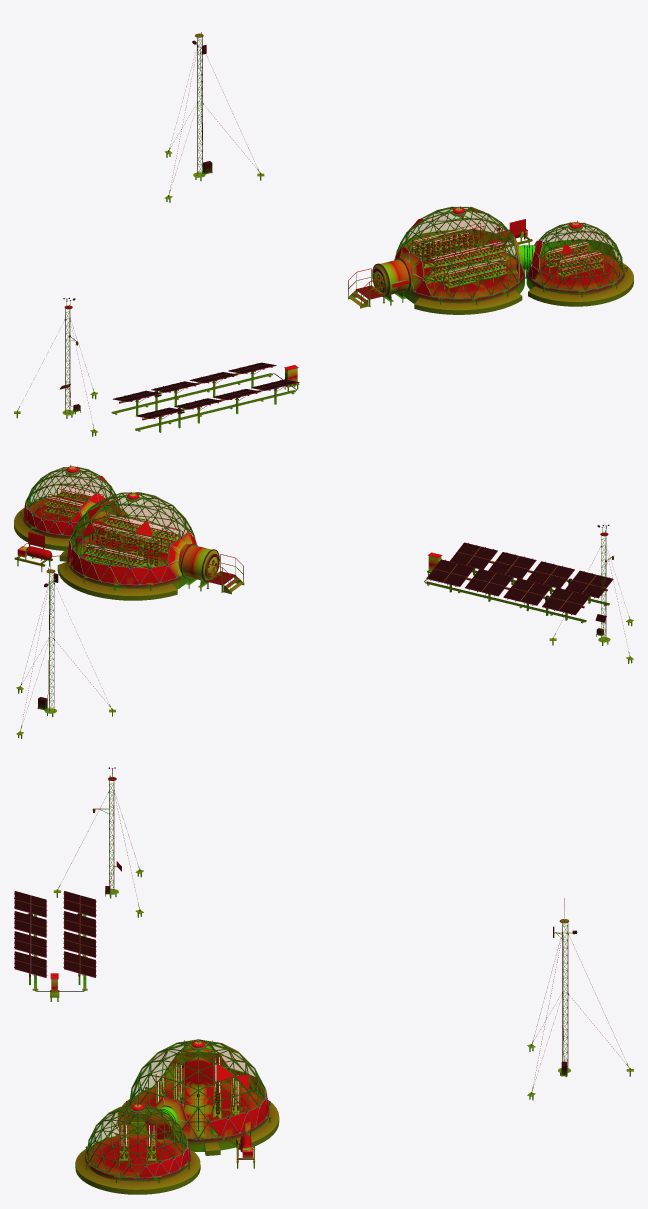
Rendered from home-yard-v1.glb.
The picture shows the model from 3 angles, top to bottom: view 1: azimuth 30°, elevation 25°; view 2: azimuth 150°, elevation 25°; view 3: azimuth 270°, elevation 25°; orthographic projection. The views are drawn at different scales.
Visible parts, largest first — view 1: garden_glass, garden_paint, garden_frame, garden_steel, garden_regolith, garden_black, power_frame, garden_vegetation, power_solar, mast_relay_frame, garden_grow, mast_met_frame; view 2: garden_glass, garden_paint, garden_frame, power_solar, garden_steel, garden_regolith, power_frame, garden_black, garden_vegetation, mast_relay_frame, mast_met_frame, garden_grow (+1 smaller); view 3: garden_glass, garden_paint, garden_frame, power_solar, garden_regolith, garden_black, garden_steel, power_frame, mast_relay_frame, mast_met_frame, garden_vegetation.
Part boxes in pixels (left/top/right/bottom): garden_glass: left=396, top=206, right=623, bottom=298; garden_paint: left=374, top=207, right=621, bottom=298; garden_frame: left=348, top=206, right=627, bottom=308; garden_steel: left=373, top=223, right=603, bottom=295; garden_regolith: left=414, top=263, right=633, bottom=314; garden_black: left=379, top=207, right=623, bottom=298; power_frame: left=111, top=363, right=299, bottom=432; garden_vegetation: left=413, top=229, right=600, bottom=286; power_solar: left=113, top=362, right=298, bottom=418; mast_relay_frame: left=164, top=32, right=264, bottom=202; garden_grow: left=411, top=224, right=601, bottom=281; mast_met_frame: left=14, top=301, right=97, bottom=436; garden_glass: left=26, top=467, right=195, bottom=567; garden_paint: left=17, top=466, right=218, bottom=584; garden_frame: left=14, top=465, right=244, bottom=594; power_solar: left=427, top=542, right=612, bottom=614; garden_steel: left=44, top=485, right=218, bottom=581; garden_regolith: left=14, top=508, right=177, bottom=600; power_frame: left=425, top=542, right=613, bottom=623; garden_black: left=26, top=467, right=217, bottom=582; garden_vegetation: left=47, top=491, right=179, bottom=568; mast_relay_frame: left=16, top=555, right=115, bottom=738; mast_met_frame: left=549, top=528, right=633, bottom=663; garden_grow: left=46, top=486, right=180, bottom=567; garden_glass: left=86, top=1039, right=264, bottom=1176; garden_paint: left=89, top=1041, right=268, bottom=1177; garden_frame: left=85, top=1039, right=270, bottom=1183; power_solar: left=15, top=891, right=95, bottom=977; garden_regolith: left=75, top=1095, right=279, bottom=1194; garden_black: left=86, top=1039, right=265, bottom=1177; garden_steel: left=119, top=1044, right=241, bottom=1165; power_frame: left=14, top=891, right=96, bottom=1001; mast_relay_frame: left=527, top=898, right=633, bottom=1100; mast_met_frame: left=53, top=771, right=143, bottom=917; garden_vegetation: left=120, top=1061, right=239, bottom=1158.
Size of the model in its own units: 41.36 by 10.7 by 33.87.
